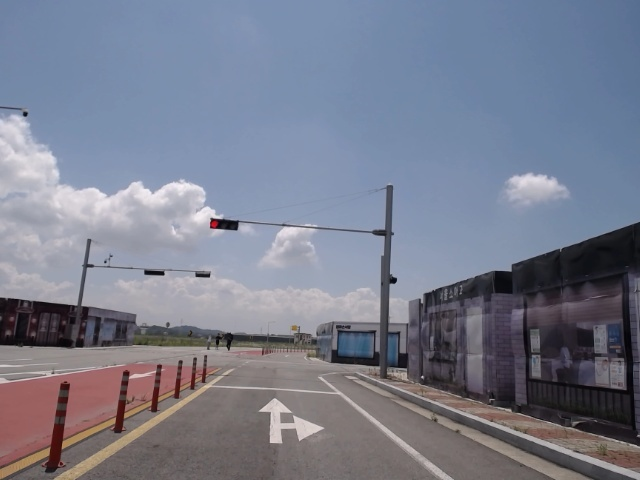red_3: (208, 218, 240, 231)
